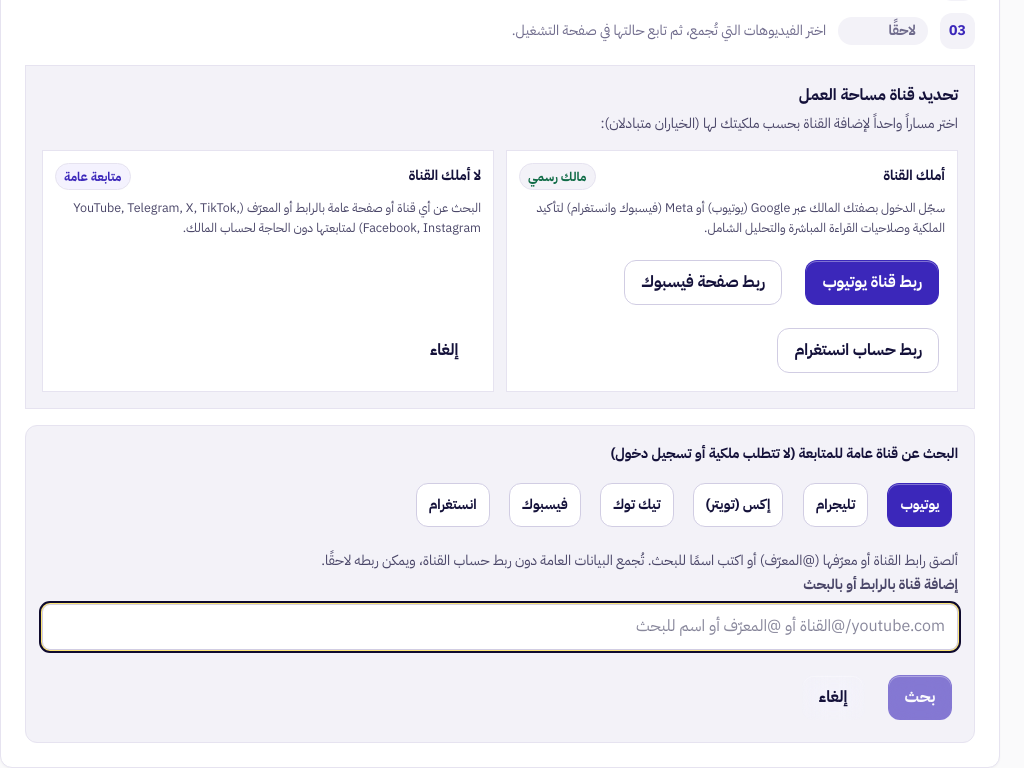
Scenario: WorkspaceCard › add channel by link or search › validates TikTok handle and shows error for invalid input
(page scrolled)
Click the button "تيك توك".
click(637, 505)  # box [600,483,674,527]
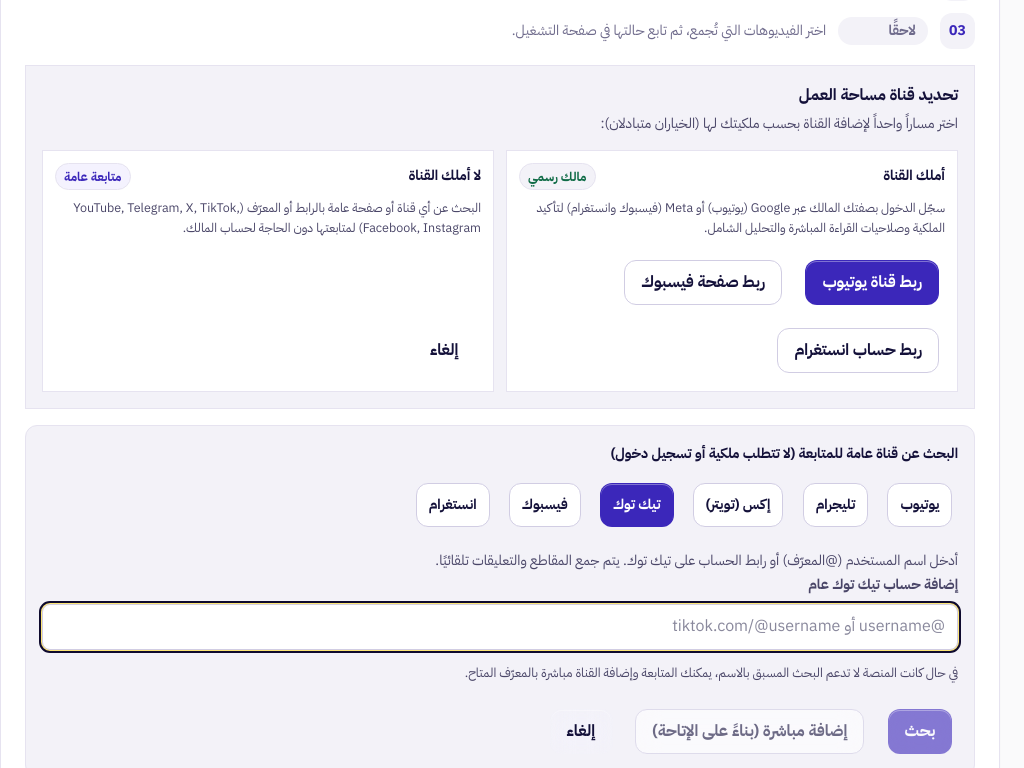
Type "a" into the field labelled "إضافة حساب تيك توك عام".
click(500, 627); type("a")  # box [42,604,958,650]
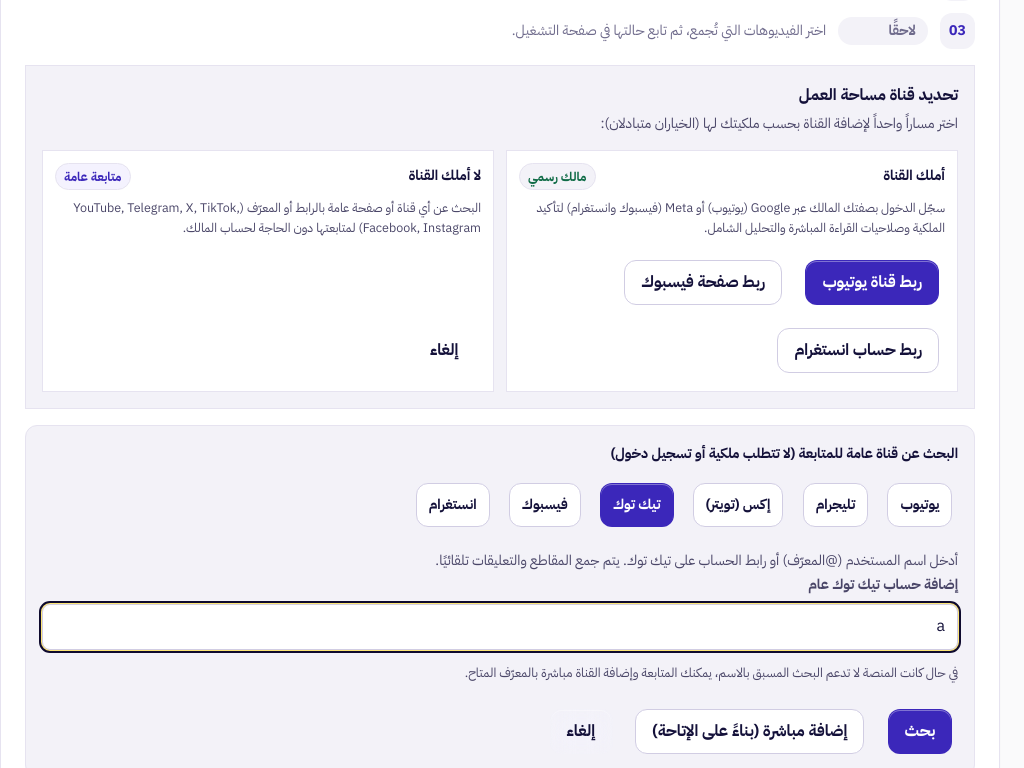
Click the button "إضافة مباشرة (بناءً على الإتاحة)".
click(750, 731)  # box [635,709,864,754]
(page scrolled)
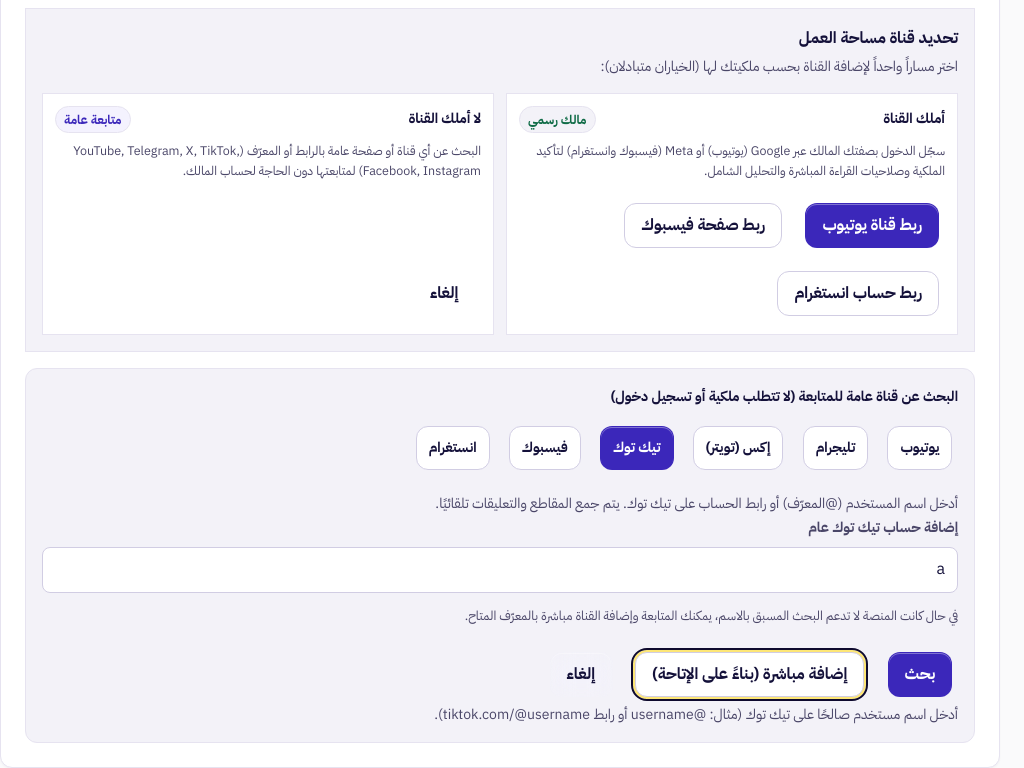
Expected: the text "أدخل اسم مستخدم صالحًا على تيك توك (مثال: @username أو رابط tiktok.com/@username)." is shown, [434,704,958,725]
